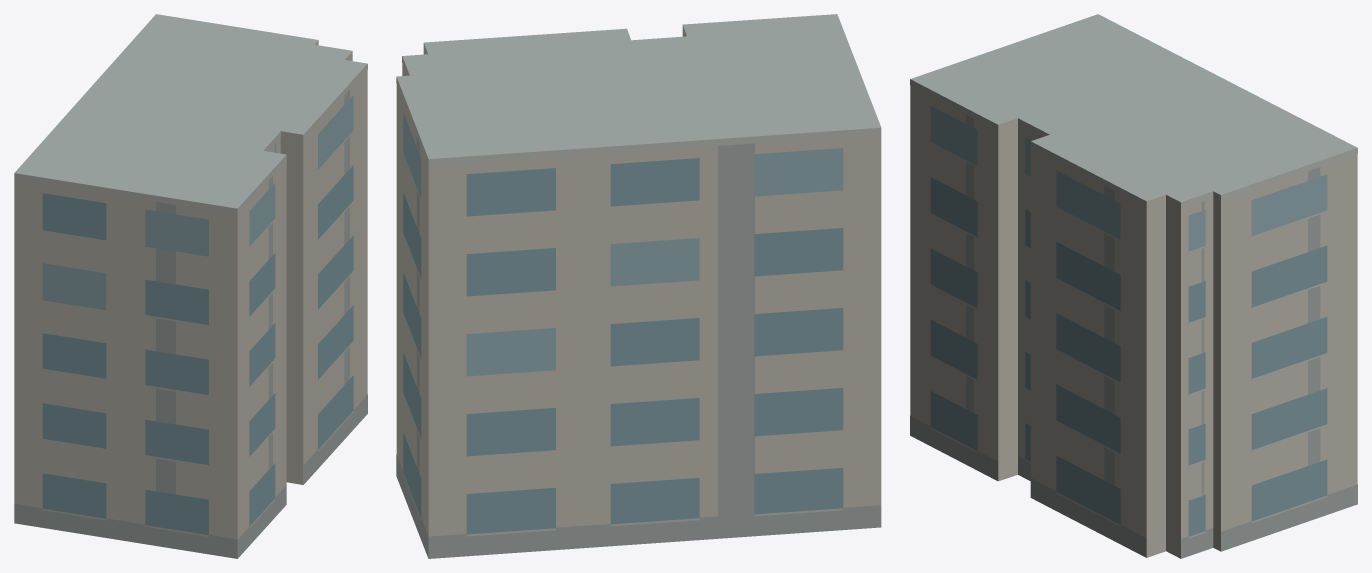
Rendered from survey-upis-32695173.glb.
The picture shows the model from 3 angles, left to right: view 1: azimuth 30°, elevation 25°; view 2: azimuth 150°, elevation 25°; view 3: azimuth 270°, elevation 25°; orthographic projection. The views are drawn at different scales.
Parts seen in each view (by area): view 1: survey-upis-32695173.tmp; view 2: survey-upis-32695173.tmp; view 3: survey-upis-32695173.tmp.
Boxes of the visible parts, <box> form: survey-upis-32695173.tmp: <box>14,14,367,558</box>; survey-upis-32695173.tmp: <box>396,14,881,558</box>; survey-upis-32695173.tmp: <box>910,14,1357,558</box>.
Bounding box in the file's own units: 15.93 × 14.05 × 15.99.
